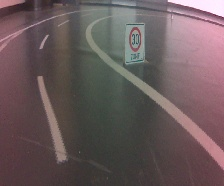zone 30 sign: (123, 20, 146, 65)
